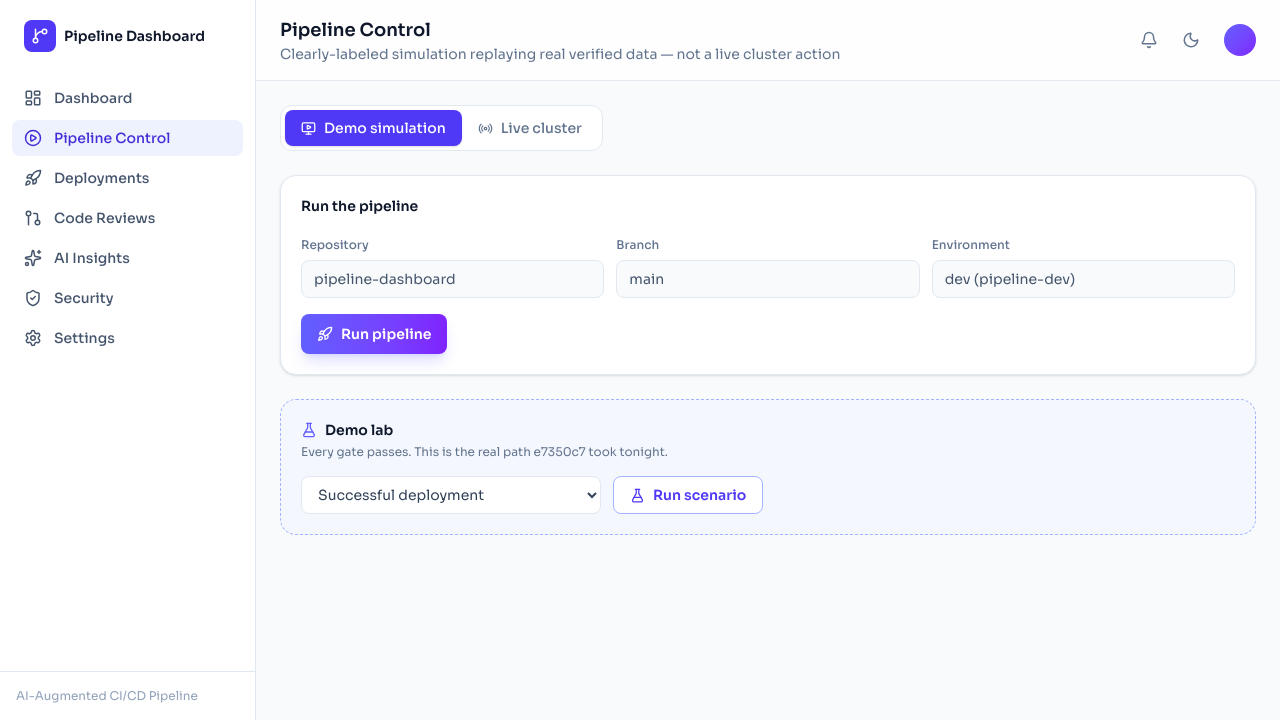
App routing › runs a demo scenario at /pipeline-control and reaches a blocked gate
expect the heading "Pipeline Control" is shown: met, box [280,19,431,41]
Step 1. Select "Security gate — critical vulnerability" in the dropdown showing "successful deployment" → (451, 495), box [301,476,601,514]
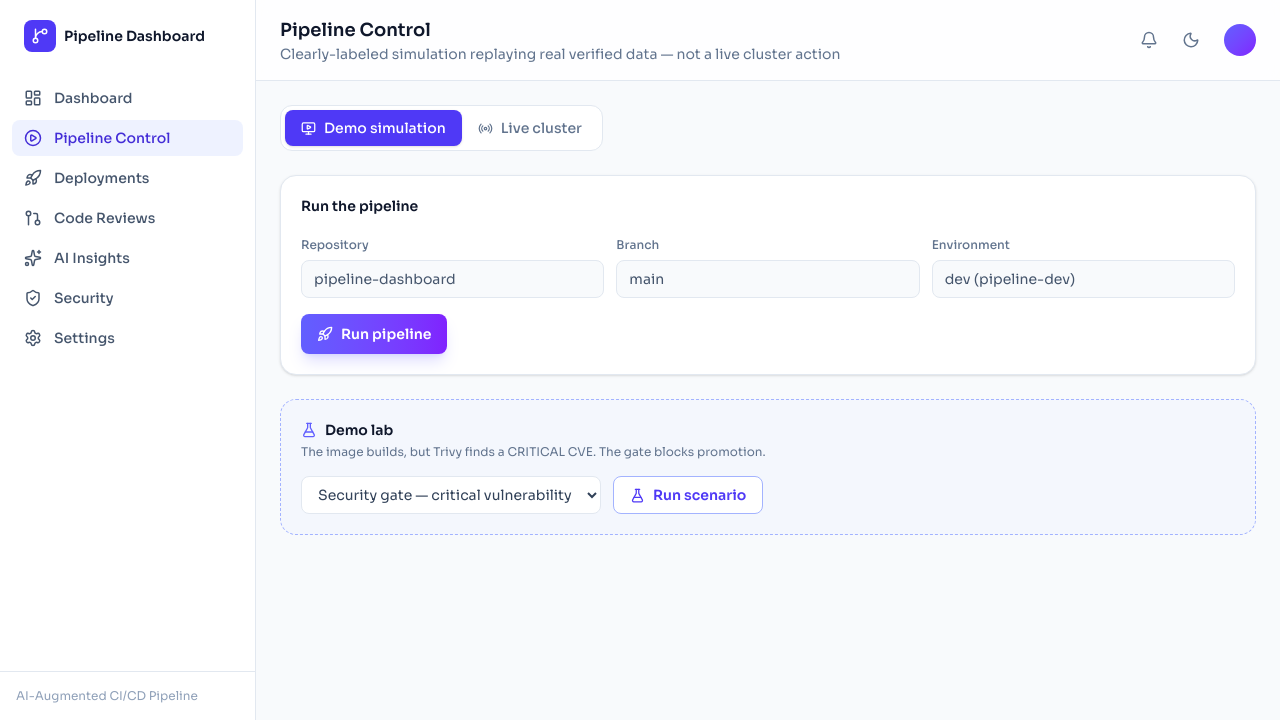
Step 2. Click the button "Run scenario" → (688, 495), box [613,476,763,514]
Wait 20000 ms
(page scrolled)
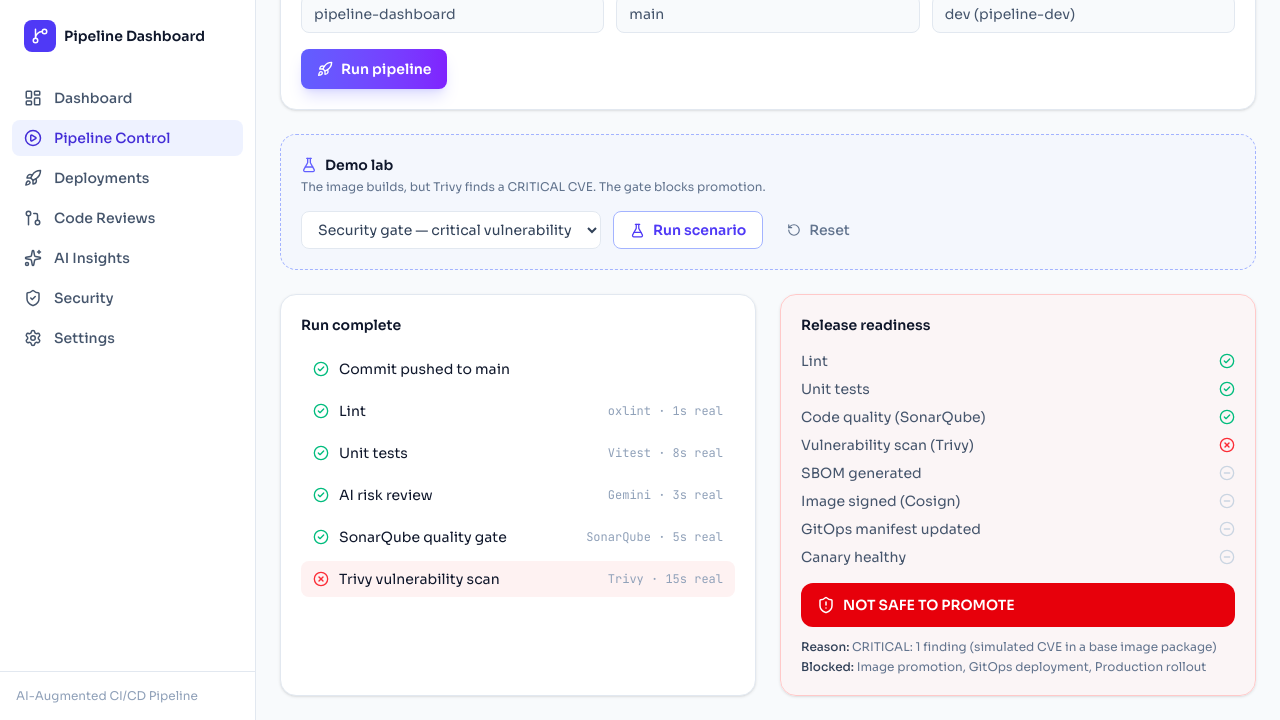
expect the text "NOT SAFE TO PROMOTE" is shown: met, box [801,583,1235,627]
expect the text "CRITICAL: 1 finding" is shown: met, box [852,639,1217,654]
